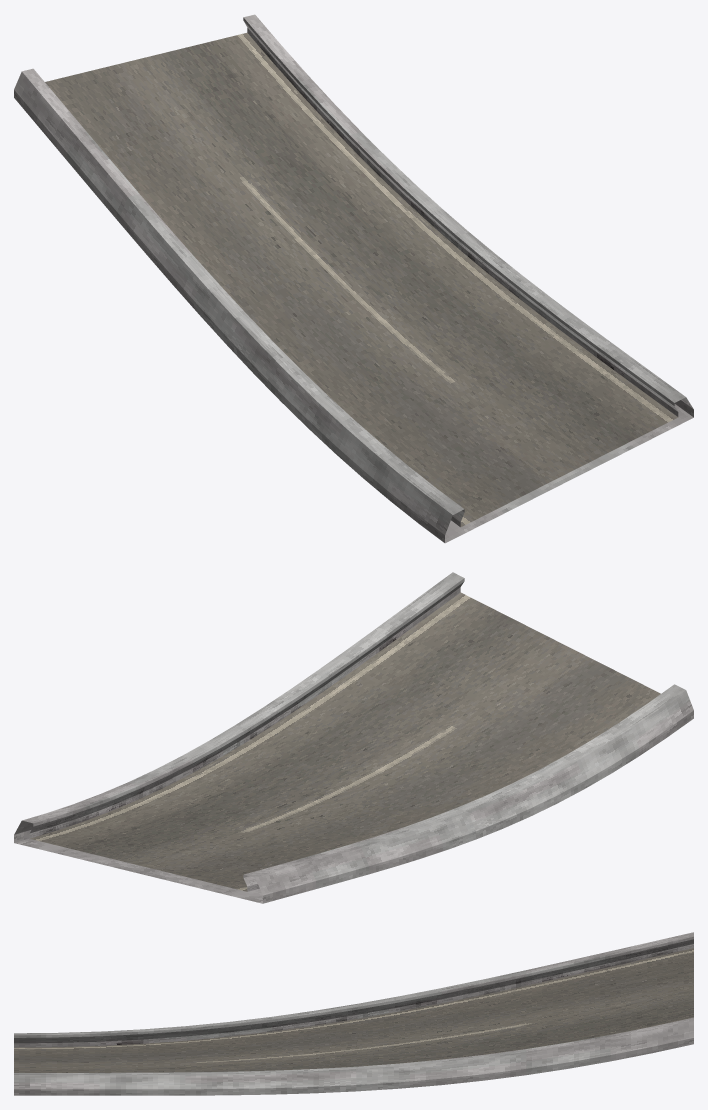
File: straight3.glb
3 renders of one model, top to bottom at view 1: azimuth 30°, elevation 25°; view 2: azimuth 150°, elevation 25°; view 3: azimuth 270°, elevation 25°, orthographic. The views are drawn at different scales.
Parts seen in each view (by area): view 1: road-Straight-HalfBankedLeft-BiSlopeUp-Up2-Center-Size3; view 2: road-Straight-HalfBankedLeft-BiSlopeUp-Up2-Center-Size3; view 3: road-Straight-HalfBankedLeft-BiSlopeUp-Up2-Center-Size3.
Part boxes in pixels (x1=…): road-Straight-HalfBankedLeft-BiSlopeUp-Up2-Center-Size3: x1=14, y1=14, x2=693, y2=543; road-Straight-HalfBankedLeft-BiSlopeUp-Up2-Center-Size3: x1=14, y1=572, x2=693, y2=903; road-Straight-HalfBankedLeft-BiSlopeUp-Up2-Center-Size3: x1=14, y1=932, x2=693, y2=1095.
Bounding box in the file's own units: 1 × 0.5937 × 3.
Materials: 2 (2 with a texture image).
